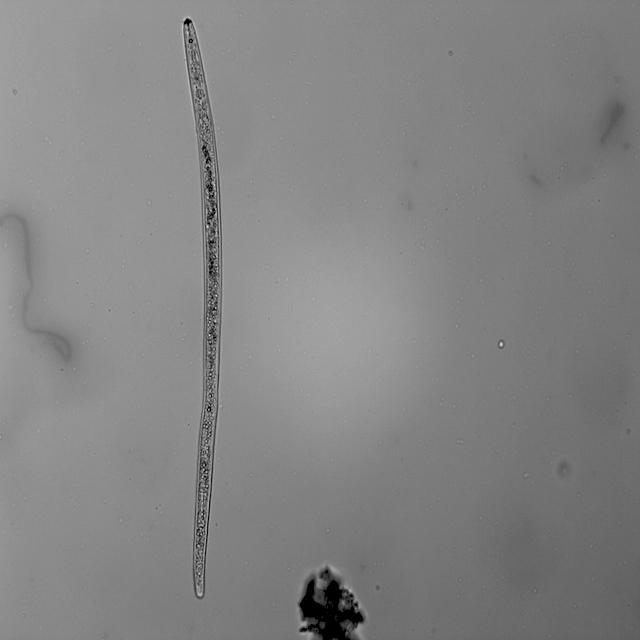Pratylenchus: (178, 9, 246, 608)
